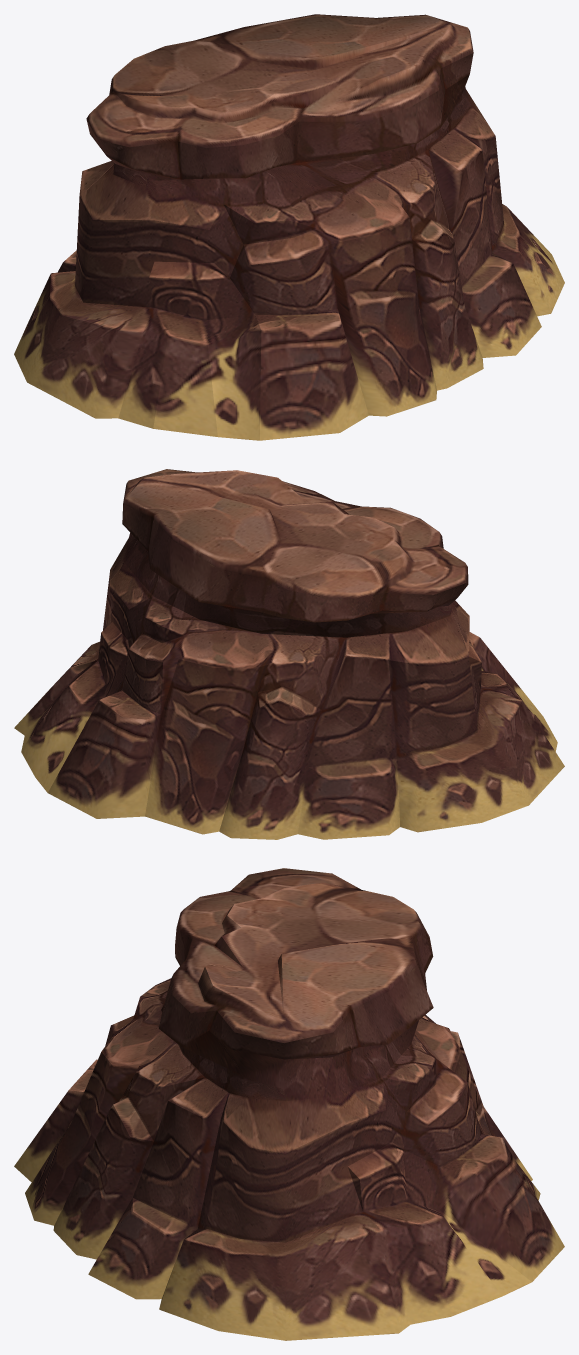
Rendered from SV_MOT_shamo_rock_4.FBX.
3 views of the same model, one above another, from view 1: azimuth 30°, elevation 25°; view 2: azimuth 150°, elevation 25°; view 3: azimuth 270°, elevation 25° (orthographic). The views are drawn at different scales.
Visible parts, largest first — view 1: SV_MOT_shamo_rock_4; view 2: SV_MOT_shamo_rock_4; view 3: SV_MOT_shamo_rock_4.
Part boxes in pixels (box(x1,y1,x2,y2)): SV_MOT_shamo_rock_4: box(14, 14, 564, 440); SV_MOT_shamo_rock_4: box(14, 469, 564, 839); SV_MOT_shamo_rock_4: box(14, 868, 564, 1340).
Size of the model in its own units: 13.04 by 6.08 by 11.33.
